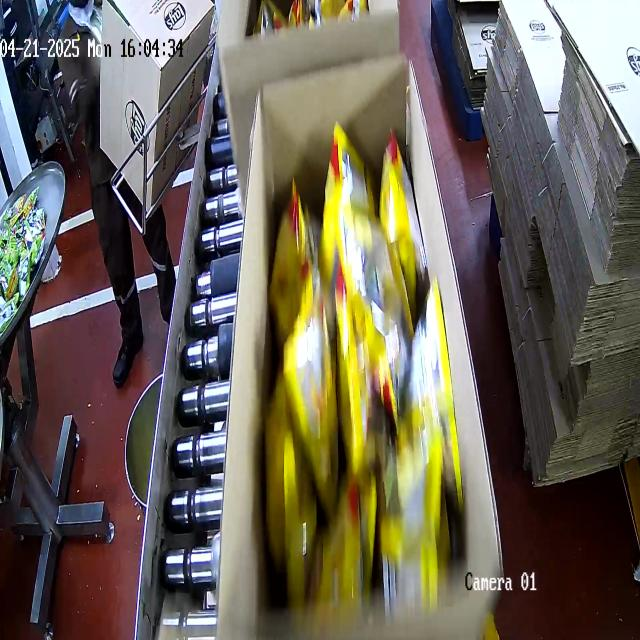SALTED: (257, 122, 463, 598)
